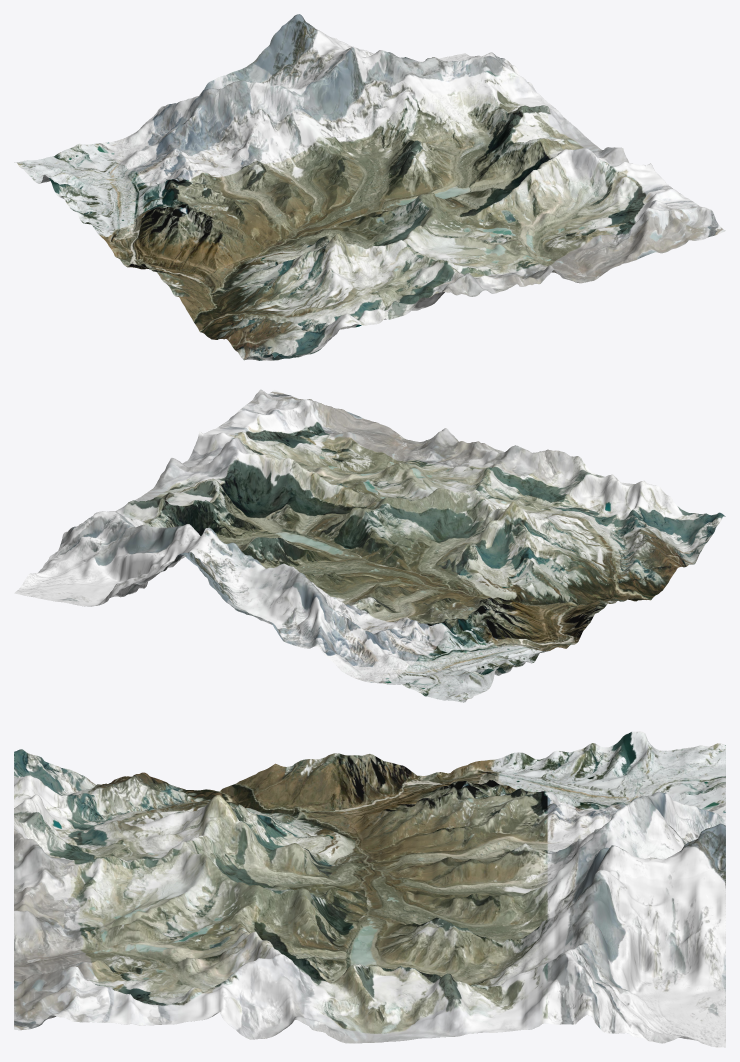
The model's file is everest-gis.glb.
3 renders of one model, top to bottom at view 1: azimuth 30°, elevation 25°; view 2: azimuth 150°, elevation 25°; view 3: azimuth 270°, elevation 25°, orthographic. The views are drawn at different scales.
Visible parts, largest first — view 1: Everest region - true metres; view 2: Everest region - true metres; view 3: Everest region - true metres.
Boxes of the visible parts, box(x1,y1,x2,y2) form: Everest region - true metres: box(14, 14, 725, 360); Everest region - true metres: box(14, 389, 725, 702); Everest region - true metres: box(14, 731, 725, 1047).
Size of the model in its own units: 20000 by 4800 by 20000.
1 material, 1 textured.
